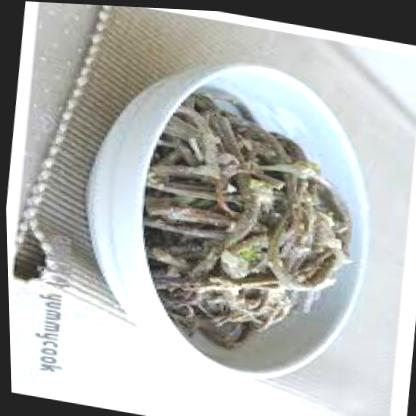seasoned bracken: (129, 91, 367, 346)
